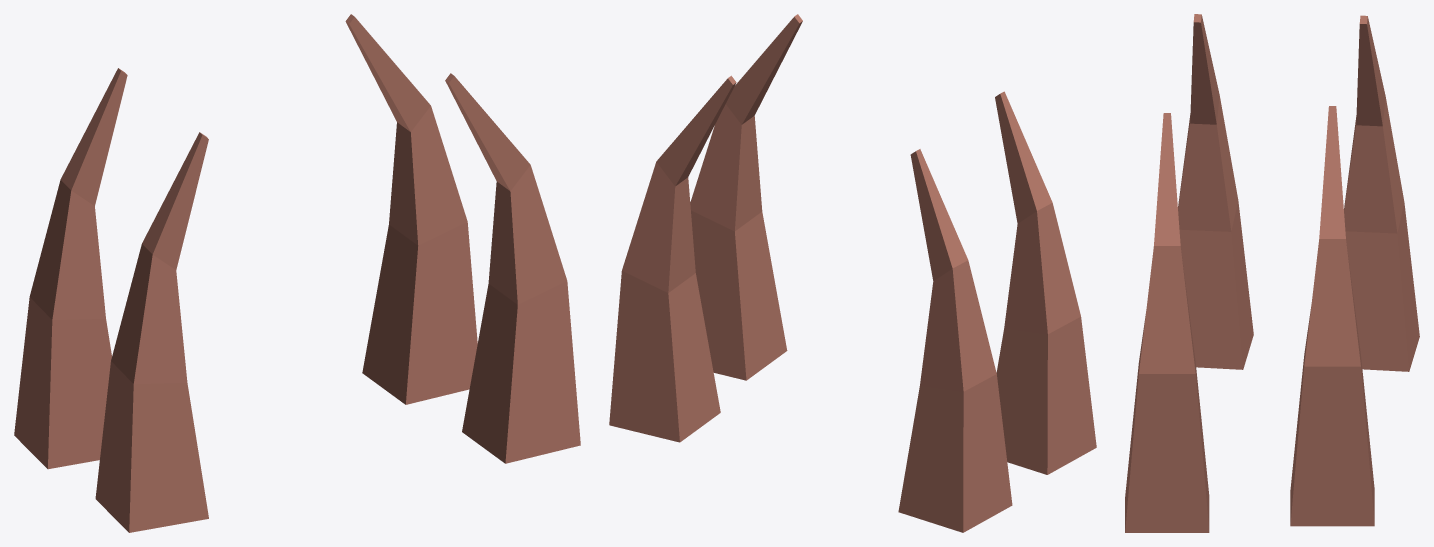
The model's file is TP_Rock03.fbx.
3 renders of one model, left to right at view 1: azimuth 30°, elevation 25°; view 2: azimuth 150°, elevation 25°; view 3: azimuth 270°, elevation 25°, orthographic. The views are drawn at different scales.
Parts seen in each view (by area): view 1: TP_Rock03; view 2: TP_Rock03; view 3: TP_Rock03.
Part boxes in pixels (x1,y1,x2,y2): TP_Rock03: (14, 14, 580, 532); TP_Rock03: (609, 14, 1096, 532); TP_Rock03: (1125, 14, 1419, 532).
Size of the model in its own units: 146 by 124 by 89.86.
1 material, 1 textured.
